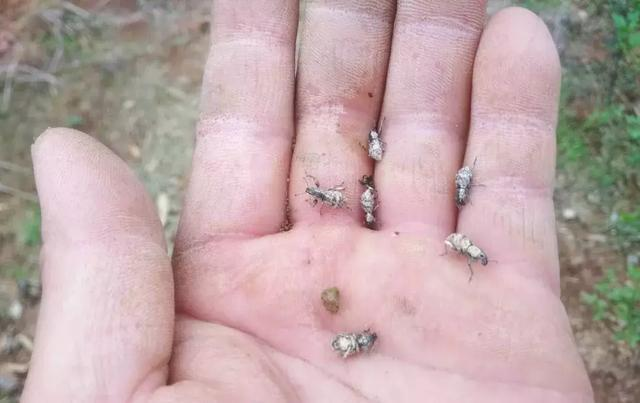Curculionidae: (439, 231, 498, 283), (294, 170, 351, 215), (454, 155, 484, 209), (330, 325, 378, 357), (358, 114, 386, 161), (358, 185, 380, 226)
